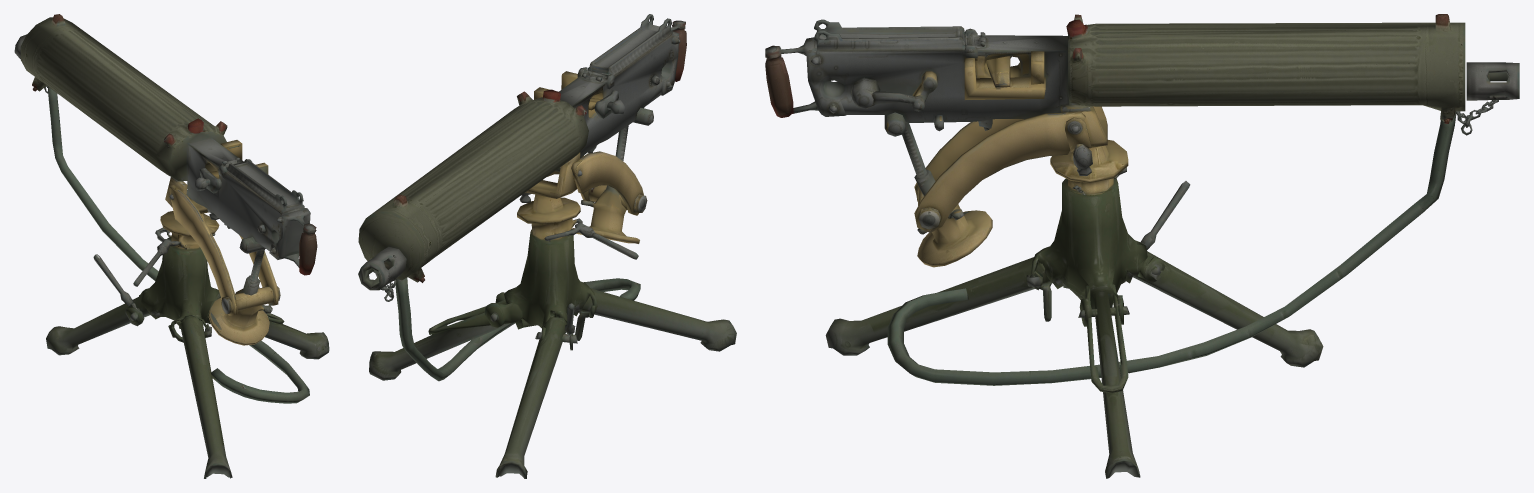
The model's file is heavy machine gun 3d model.glb.
3 views of the same model, side by side, from view 1: azimuth 30°, elevation 25°; view 2: azimuth 150°, elevation 25°; view 3: azimuth 270°, elevation 25° (orthographic). The views are drawn at different scales.
Parts seen in each view (by area): view 1: tripo_node_c1e8f393-92fc-48c7-978a-973dd9ac1b8d; view 2: tripo_node_c1e8f393-92fc-48c7-978a-973dd9ac1b8d; view 3: tripo_node_c1e8f393-92fc-48c7-978a-973dd9ac1b8d.
Boxes of the visible parts, bbox=[...] form: tripo_node_c1e8f393-92fc-48c7-978a-973dd9ac1b8d: bbox=[14, 14, 329, 478]; tripo_node_c1e8f393-92fc-48c7-978a-973dd9ac1b8d: bbox=[358, 14, 736, 478]; tripo_node_c1e8f393-92fc-48c7-978a-973dd9ac1b8d: bbox=[765, 14, 1519, 478].
Bounding box in the file's own units: 0.4551 × 0.5488 × 0.998.
1 material, 1 textured.
